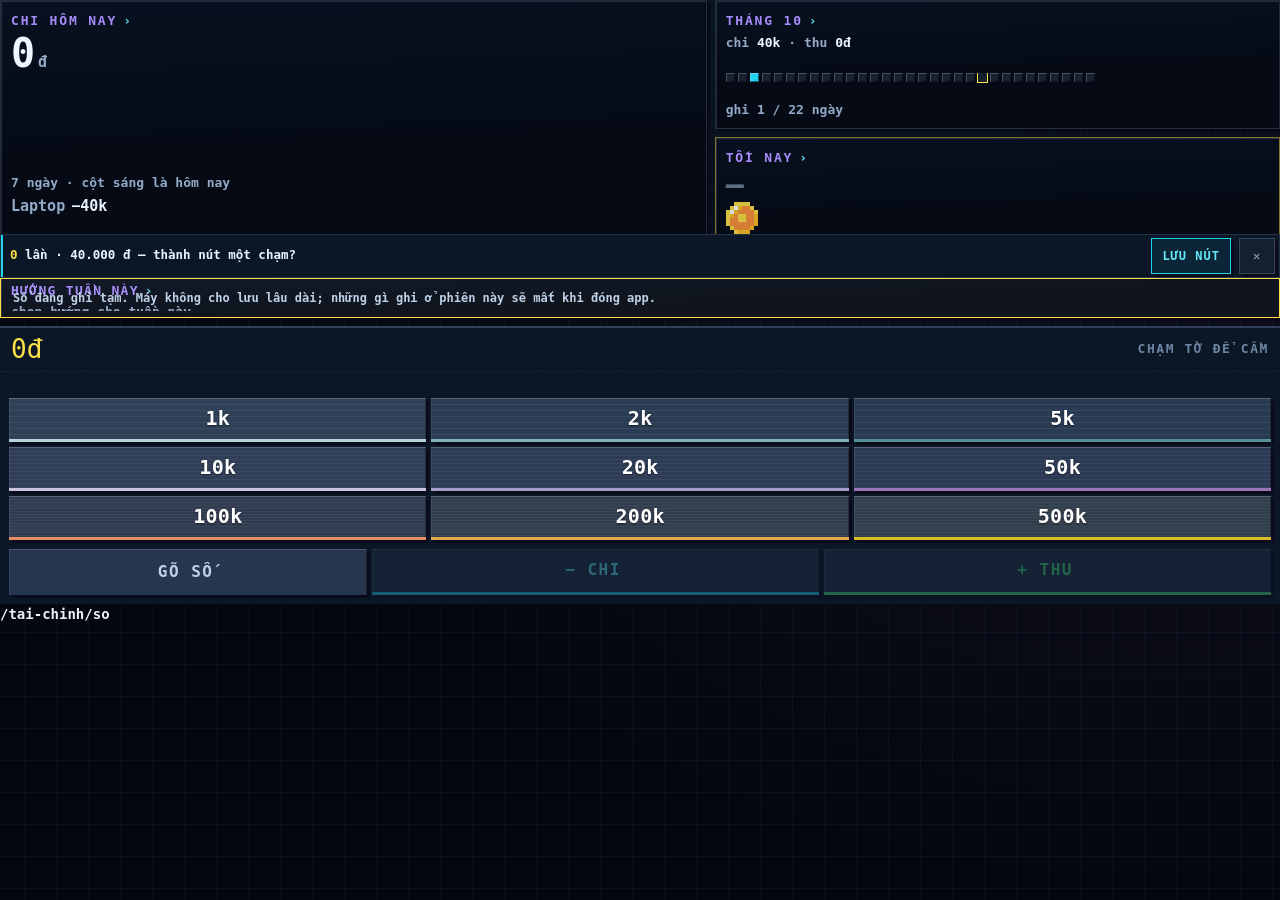
Test case: §III — danh sách › ⭐⭐ D410 — khoản đã vào hũ nói tên HŨ (ô `HŨ`), không còn "Chưa phân loại"
expect the element with test id "so-hom-nay" does not show "—": met
expect the text "40k" is shown: met, box x1=757 y1=34 x2=780 y2=50
Click the button "CHI HÔM NAY › 0đ 7 ngày · cột sáng là hôm nay Laptop −40k" at (353, 133), box x1=0 y1=0 x2=707 y2=266
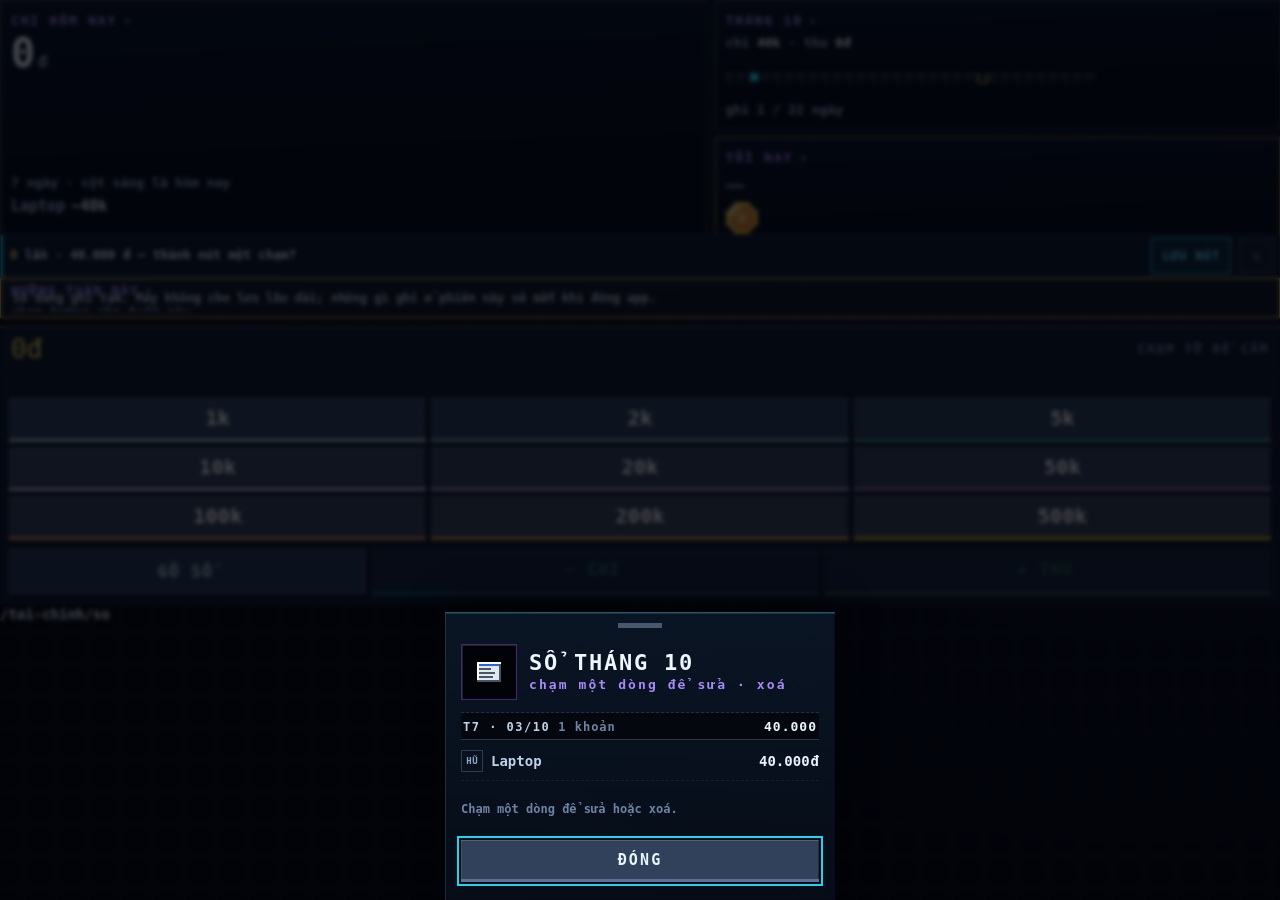
expect the text "HŨ" is shown: met, box x1=461 y1=750 x2=483 y2=772
